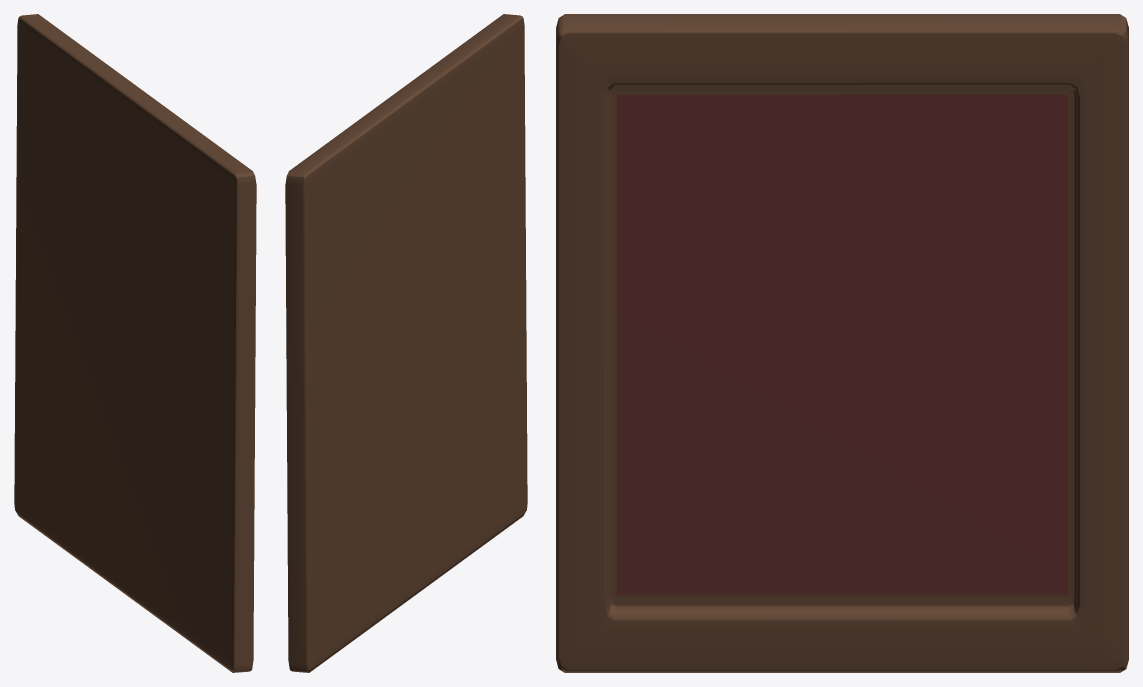
The model's file is geo_tableau.fbx.
3 views of the same model, side by side, from view 1: azimuth 30°, elevation 25°; view 2: azimuth 150°, elevation 25°; view 3: azimuth 270°, elevation 25° (orthographic). The views are drawn at different scales.
Visible parts, largest first — view 1: geo_tableau1; view 2: geo_tableau1; view 3: geo_tableau1.
Boxes of the visible parts, x1,y1,x2,y2 form: geo_tableau1: [14, 14, 256, 672]; geo_tableau1: [285, 14, 527, 672]; geo_tableau1: [556, 14, 1128, 672].
Size of the model in its own units: 4.34 by 85.8 by 68.5.
